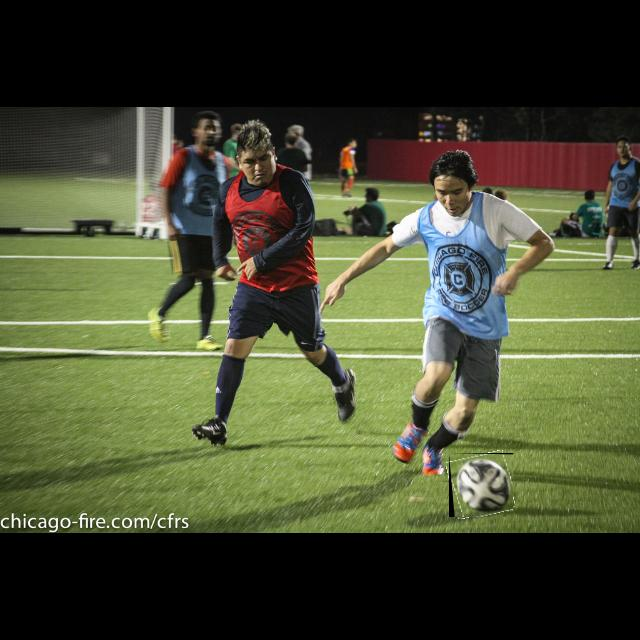Football: (449, 453, 513, 517)
